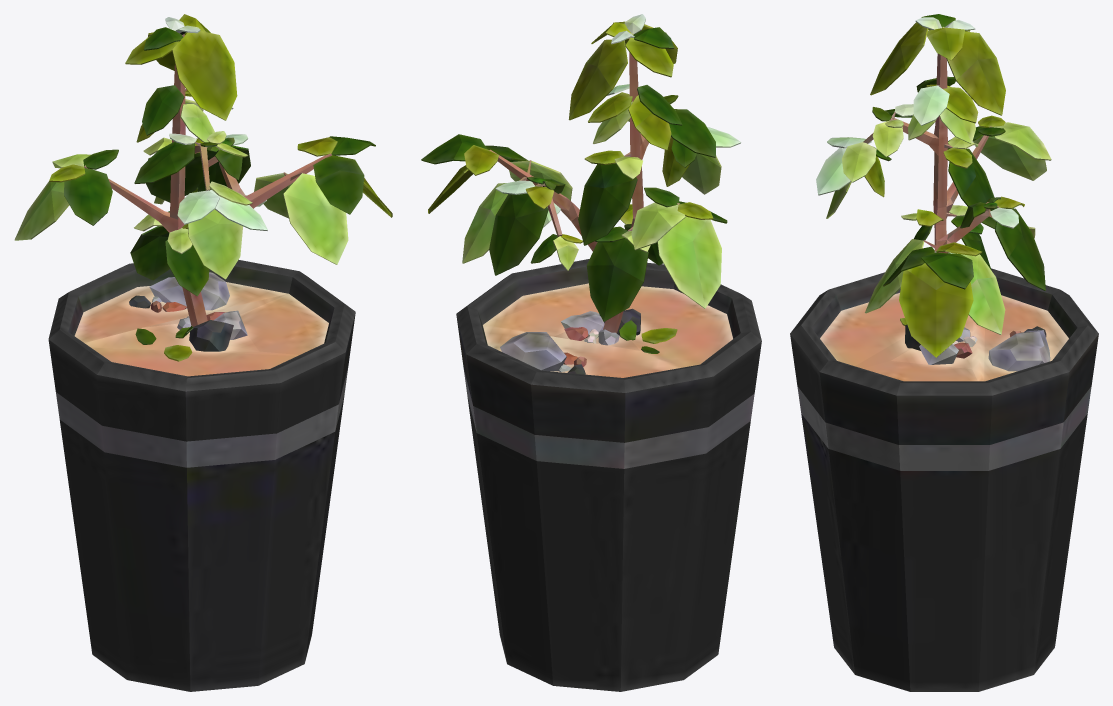
The model's file is vase1.glb.
3 views of the same model, side by side, from view 1: azimuth 30°, elevation 25°; view 2: azimuth 150°, elevation 25°; view 3: azimuth 270°, elevation 25° (orthographic).
Visible parts, largest first — view 1: Vase; view 2: Vase; view 3: Vase.
Boxes of the visible parts, <box> form: Vase: <box>14,14,392,691</box>; Vase: <box>421,14,761,691</box>; Vase: <box>790,14,1098,691</box>.
Size of the model in its own units: 0.6362 by 1.16 by 0.5269.
1 material, 1 textured.
